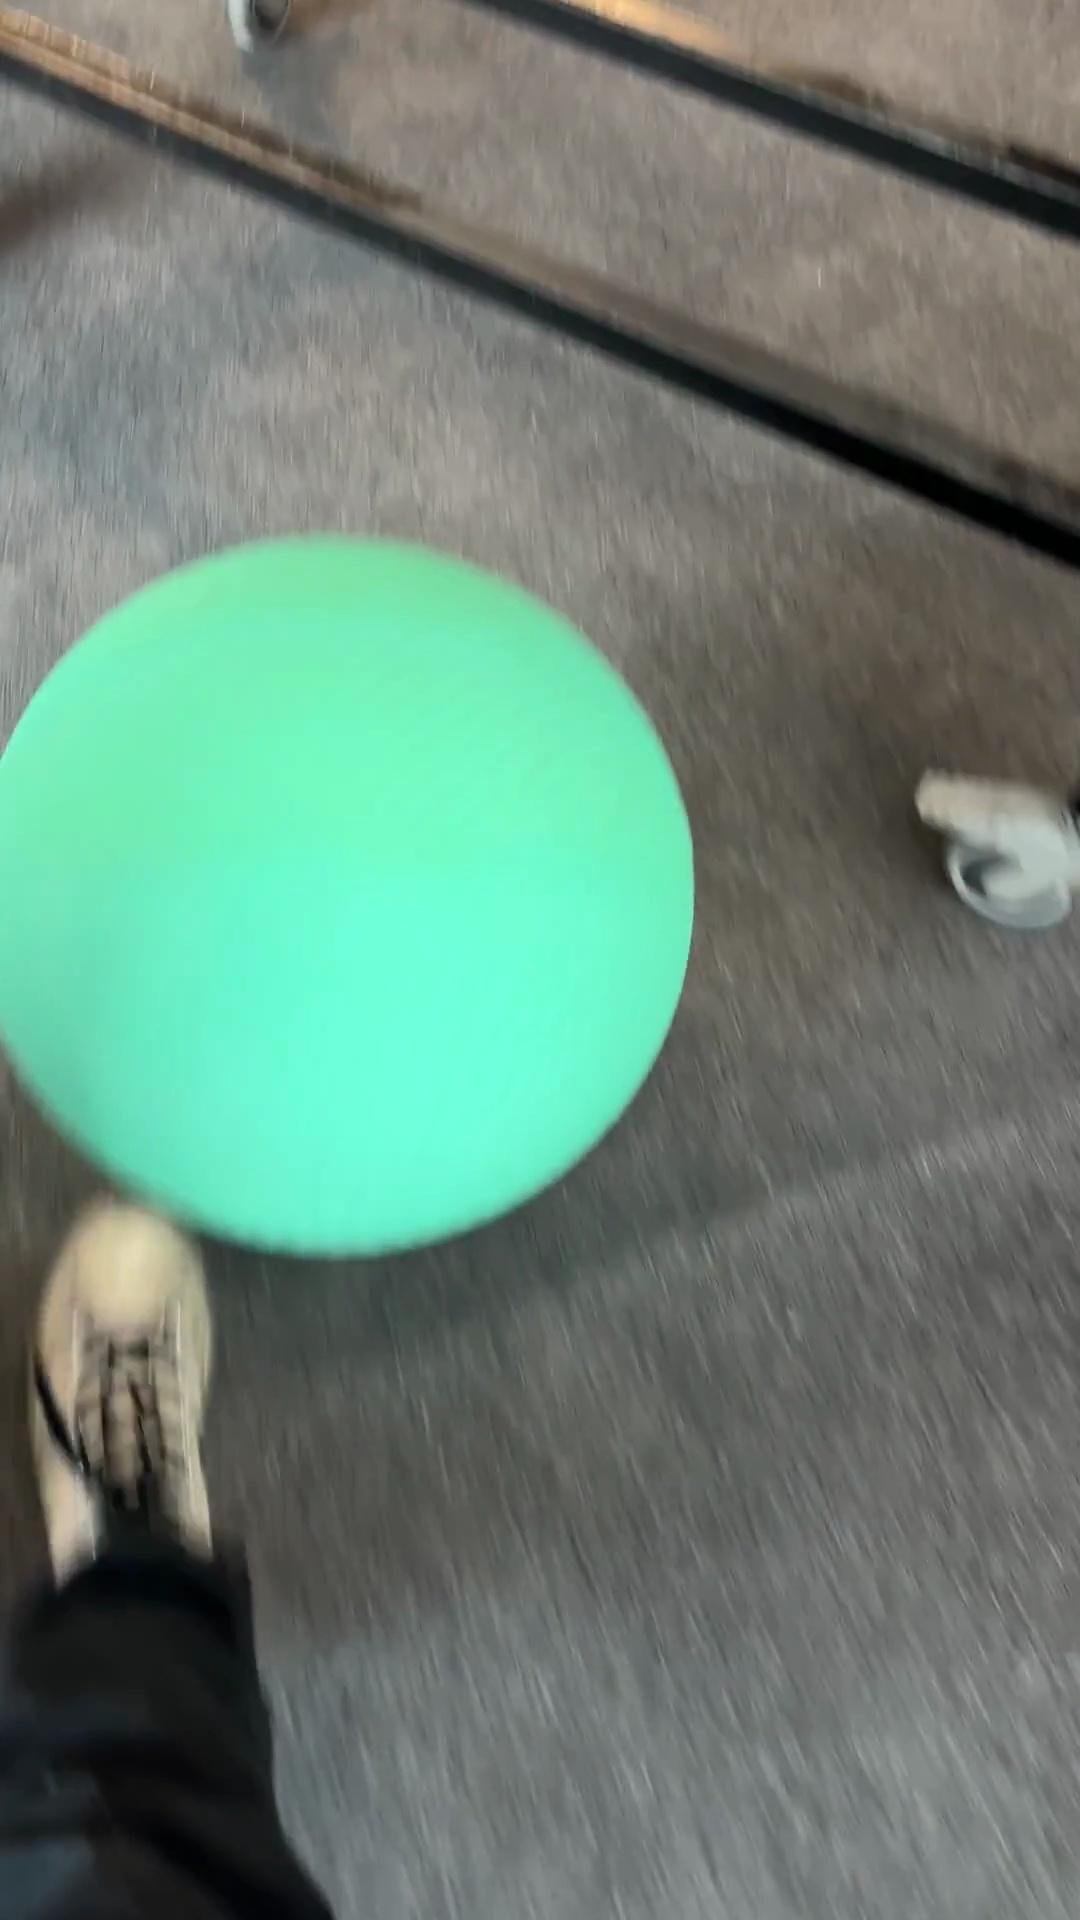ALGAE: (1, 529, 698, 1262)
